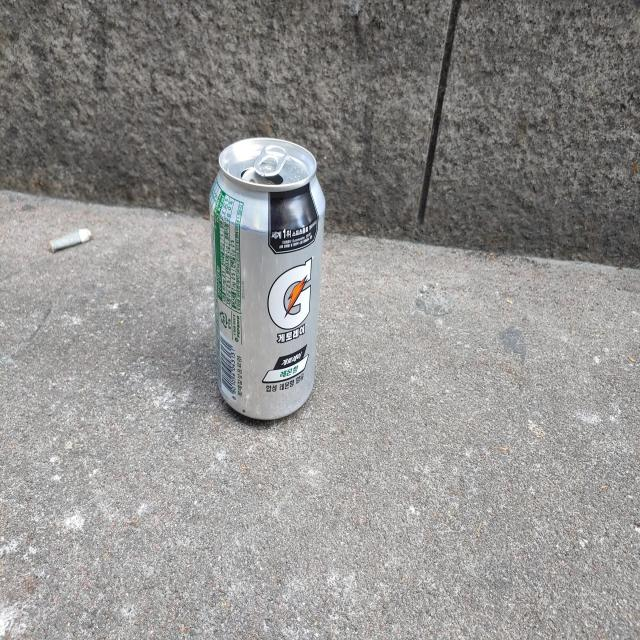can: (210, 137, 325, 419)
